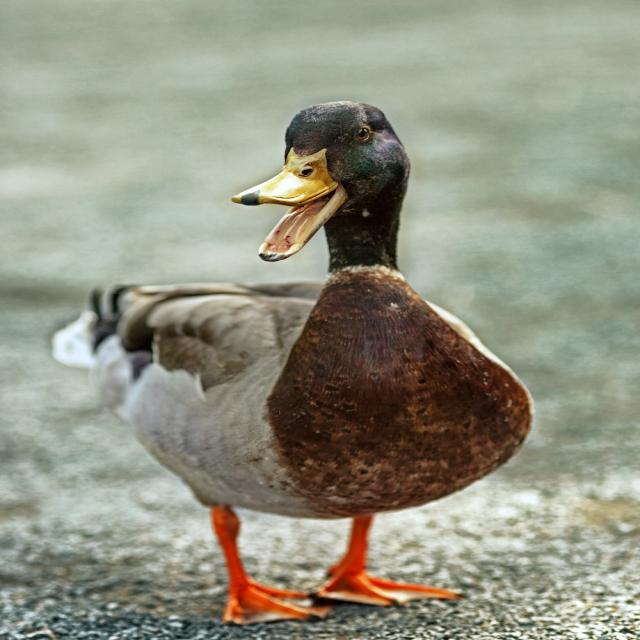ducks: (61, 66, 550, 638)
